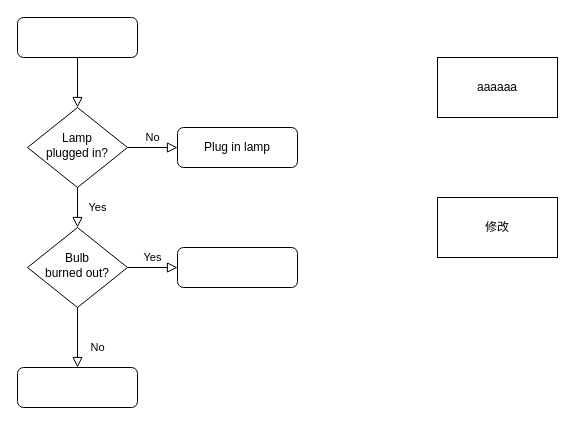
This 575x425 diagram has some shape labels left out. Here are the shapes that lost their labels. From the top down, the box of each, then its label:
(16, 16, 138, 58): Lamp doesn't work
(176, 246, 298, 288): Replace Bulb
(16, 366, 138, 408): Repair Lamp
